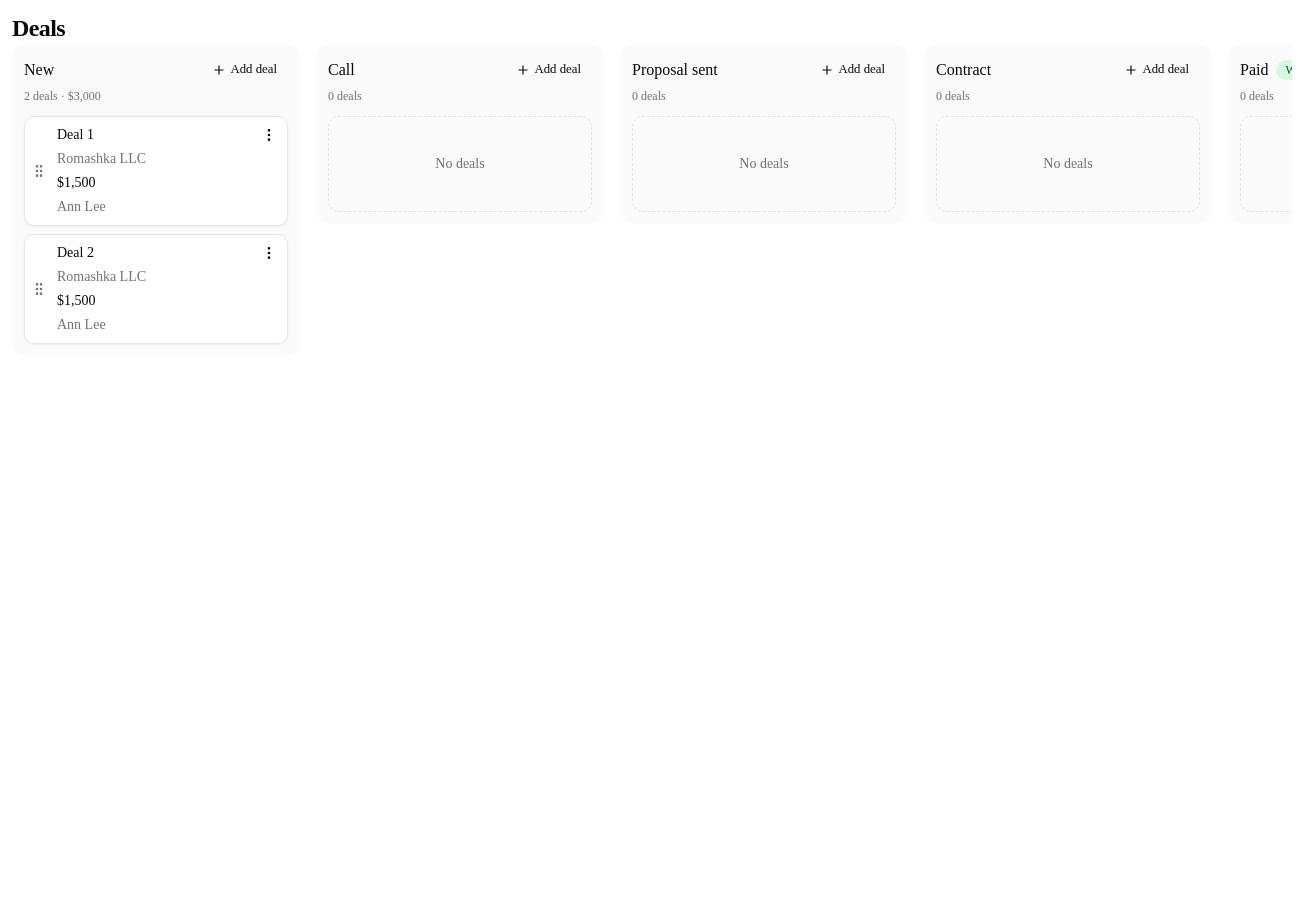
it: DealBoard › failed moves › should keep a queued move of another card in place when an earlier move fails
Click the button named "Actions for Deal 1": (269, 135) [255,121,283,149]
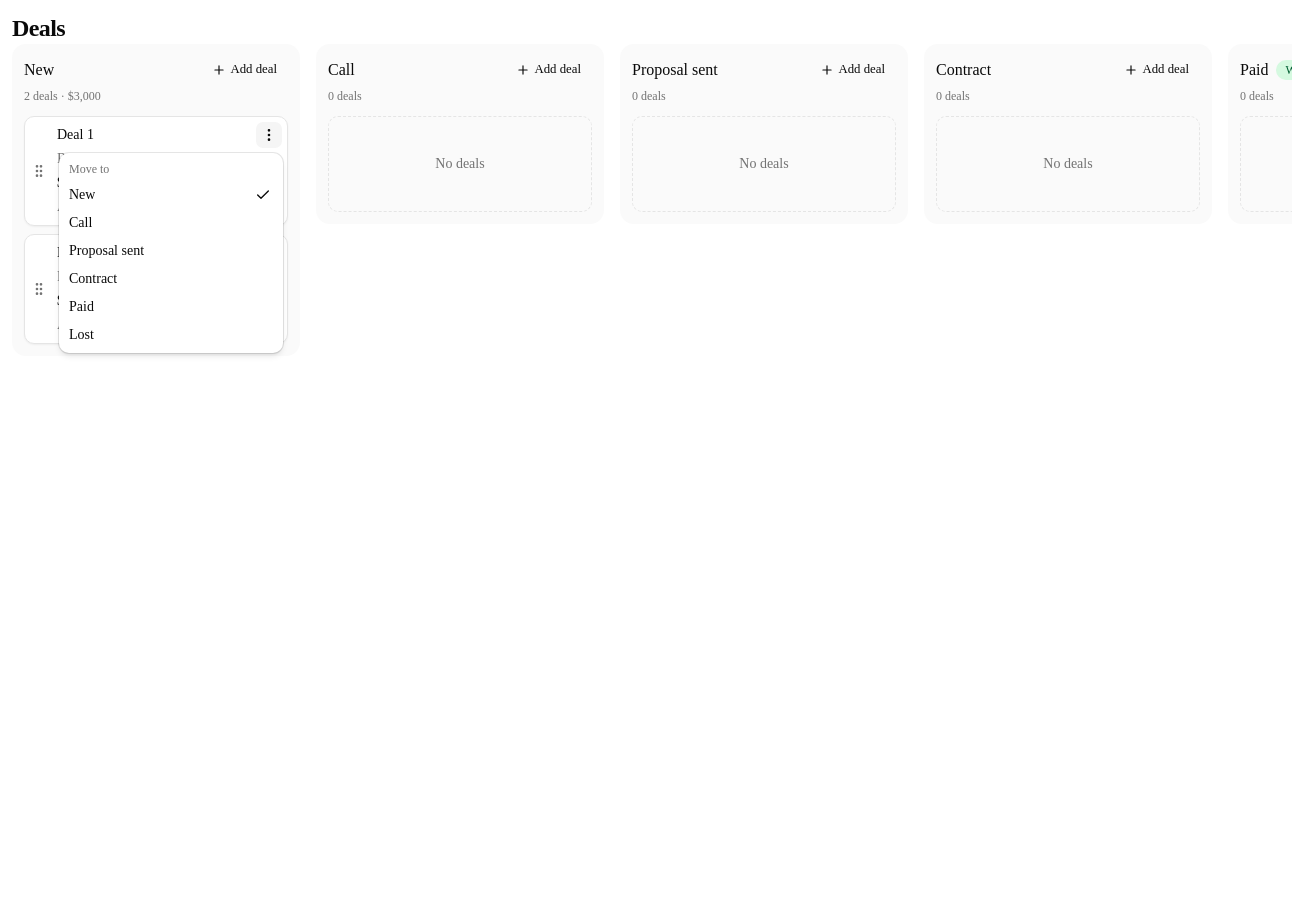
Click the menu item "Call": (81, 222) [69,215,92,230]
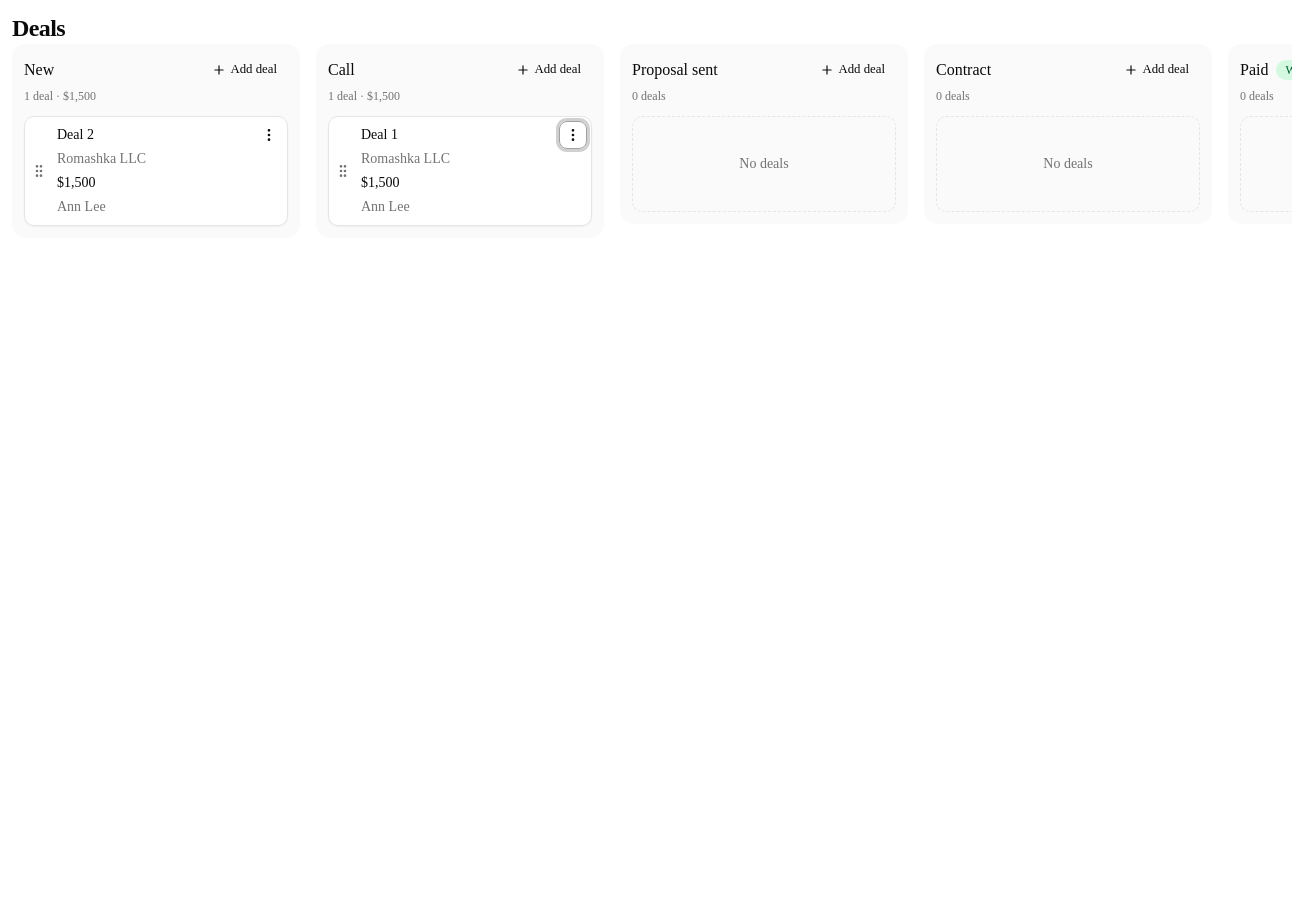
Click the button named "Actions for Deal 2": (269, 135) [255,121,283,149]
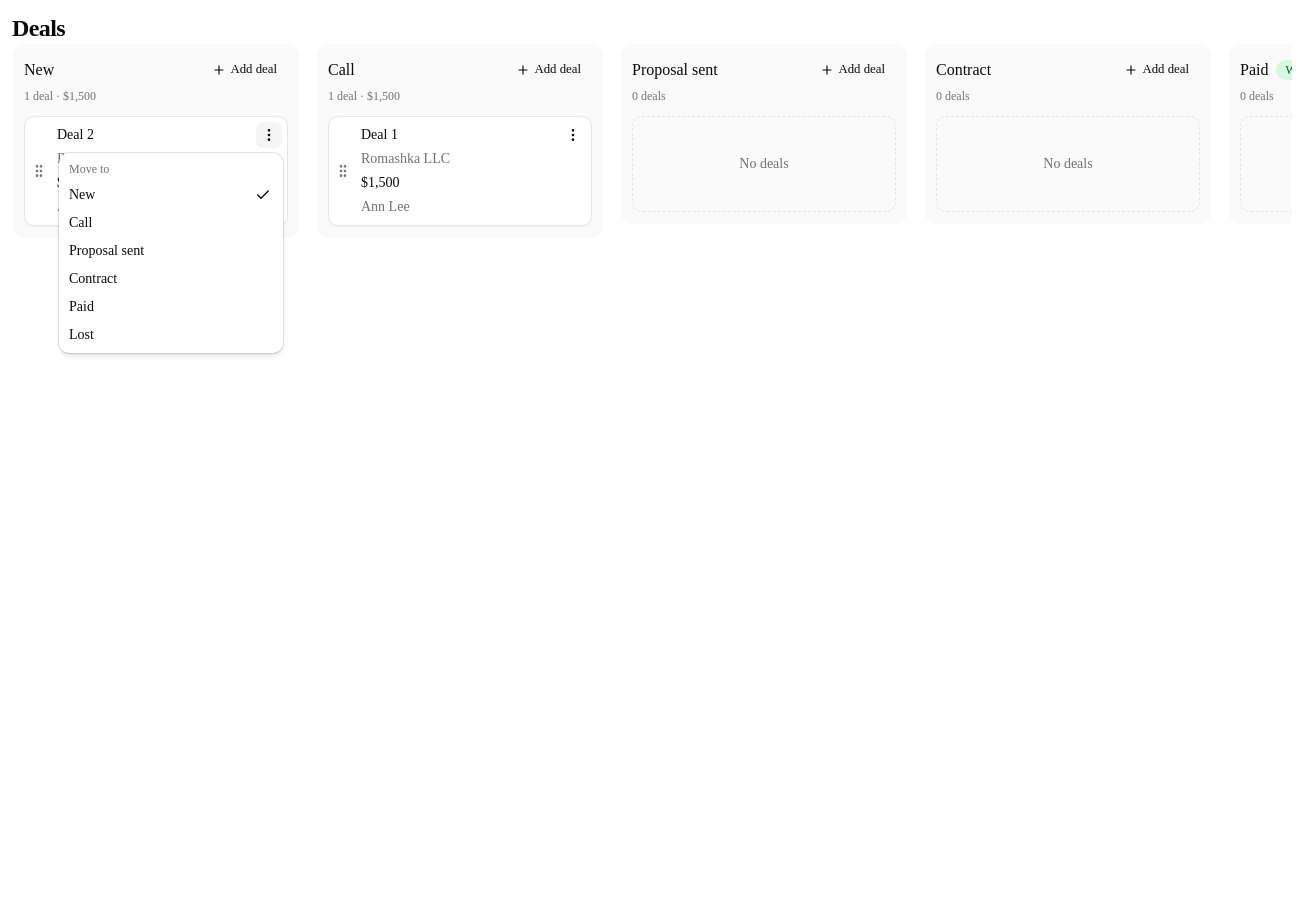
Click the menu item "Call": (81, 222) [69,215,92,230]
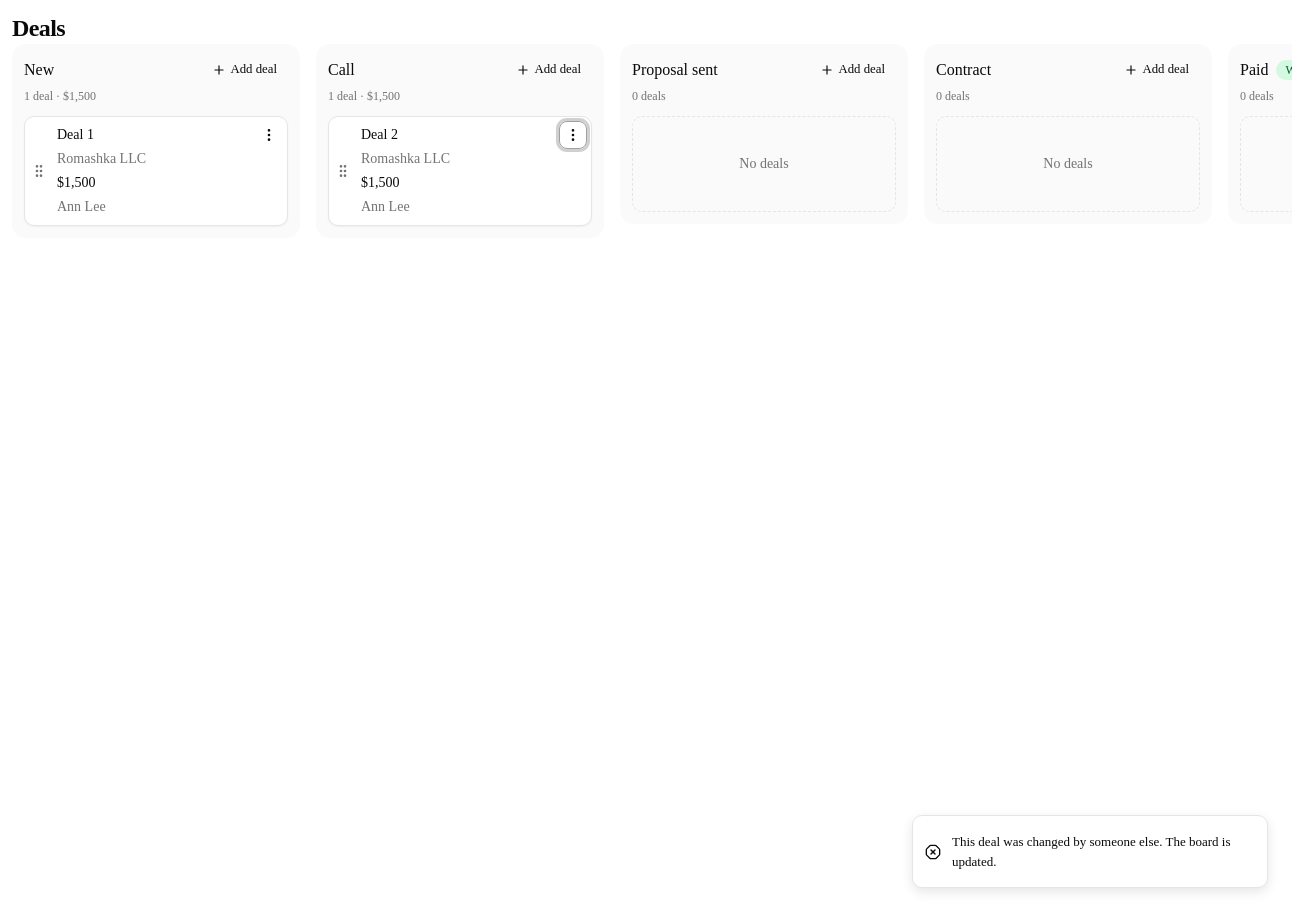
expect the text "This deal was changed by someone else. The board is updated." is shown: met, box [952,832,1251,871]
